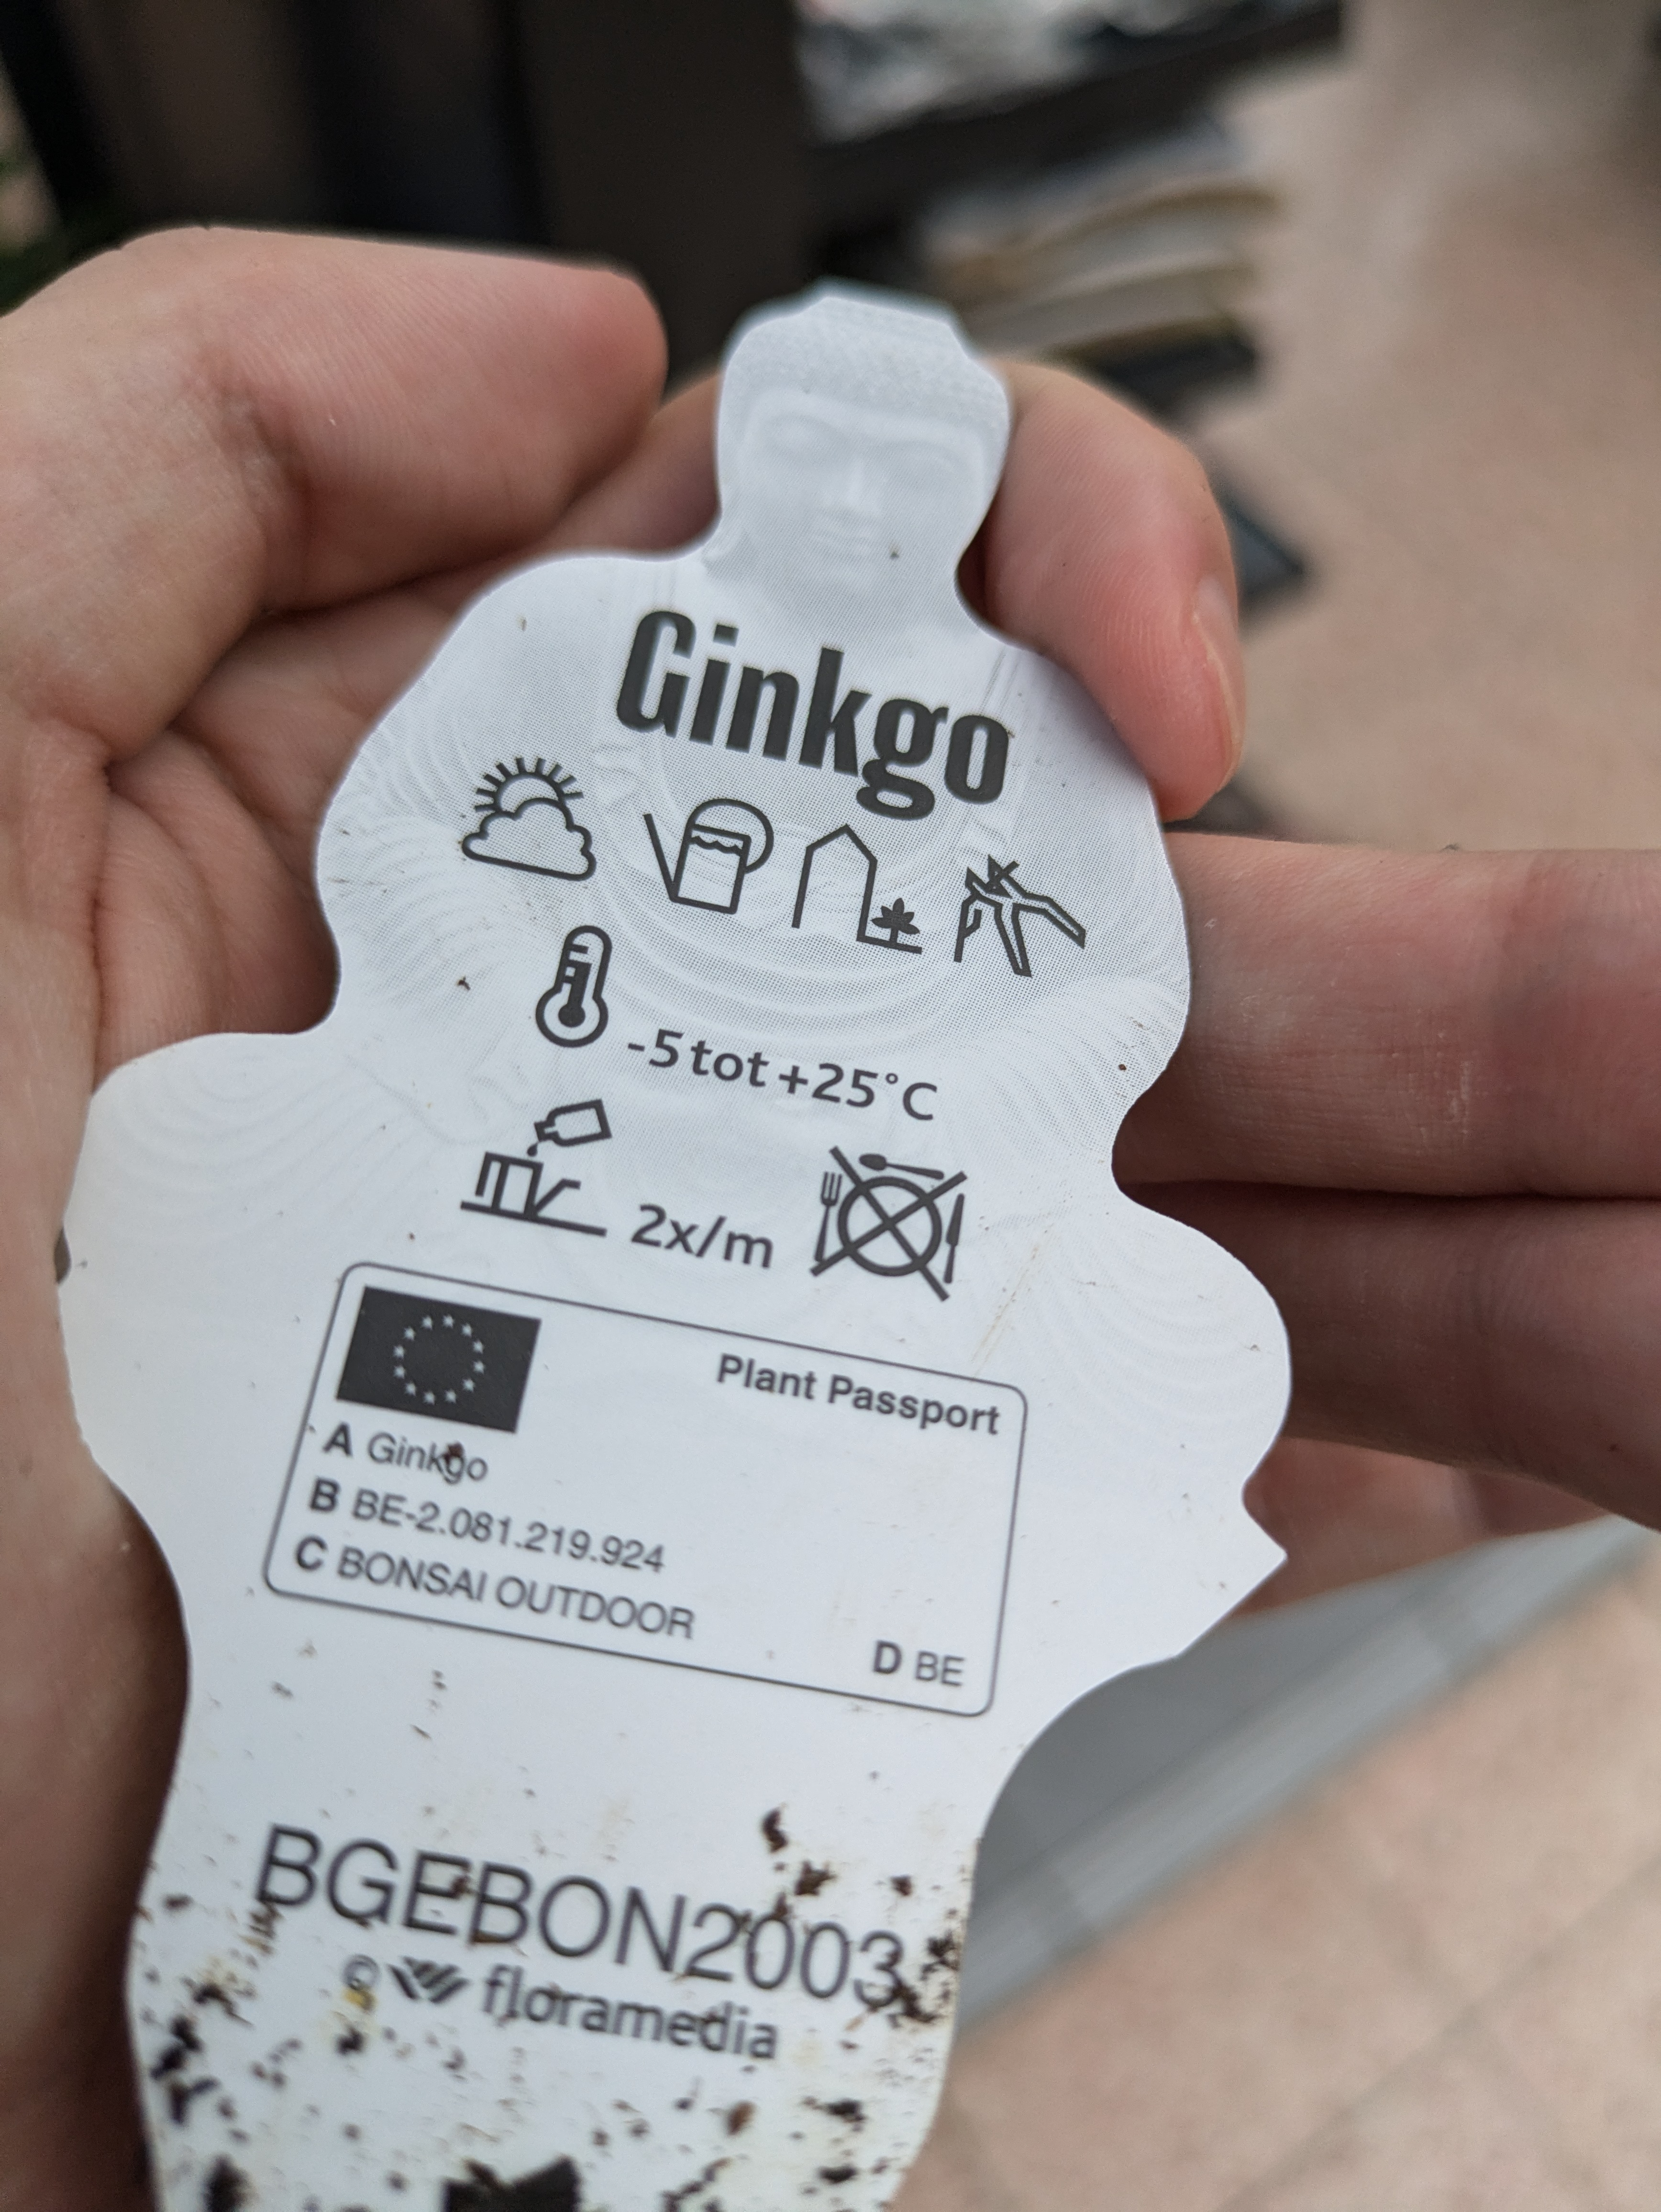halb sonnig: (454, 741, 608, 894)
oft gießen: (642, 772, 787, 921)
